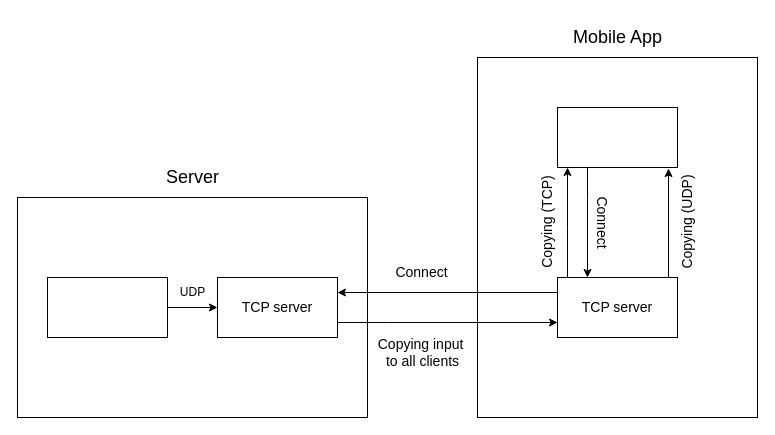
Some shapes in this 775 by 435 pixel diagram are drawn without their labels. The shapes that lost their labels are listed below. From the top down, each one's centre as x and y in pixels, then its label:
At [617,137]: "MobileVLCKit".
At [107,307]: "ffmpeg sending screen stream".
